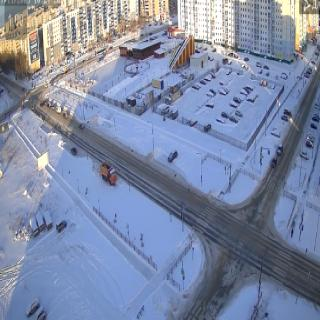large-vehicle: (99, 163, 116, 177)
small-vehicle: (24, 298, 38, 318), (55, 219, 68, 234), (167, 150, 179, 164), (34, 309, 48, 320), (270, 128, 281, 140), (283, 106, 292, 120), (299, 150, 309, 162), (188, 117, 198, 129), (203, 122, 212, 134), (204, 100, 214, 110), (280, 71, 288, 82), (270, 157, 277, 169), (281, 112, 288, 124), (219, 110, 228, 119), (306, 140, 314, 150), (311, 113, 319, 123), (233, 94, 240, 105), (277, 144, 283, 156), (70, 147, 77, 157), (310, 122, 317, 131), (62, 110, 69, 119), (78, 122, 84, 131), (28, 101, 34, 110), (55, 105, 61, 114), (305, 70, 309, 79), (39, 101, 44, 106), (51, 103, 54, 109)
